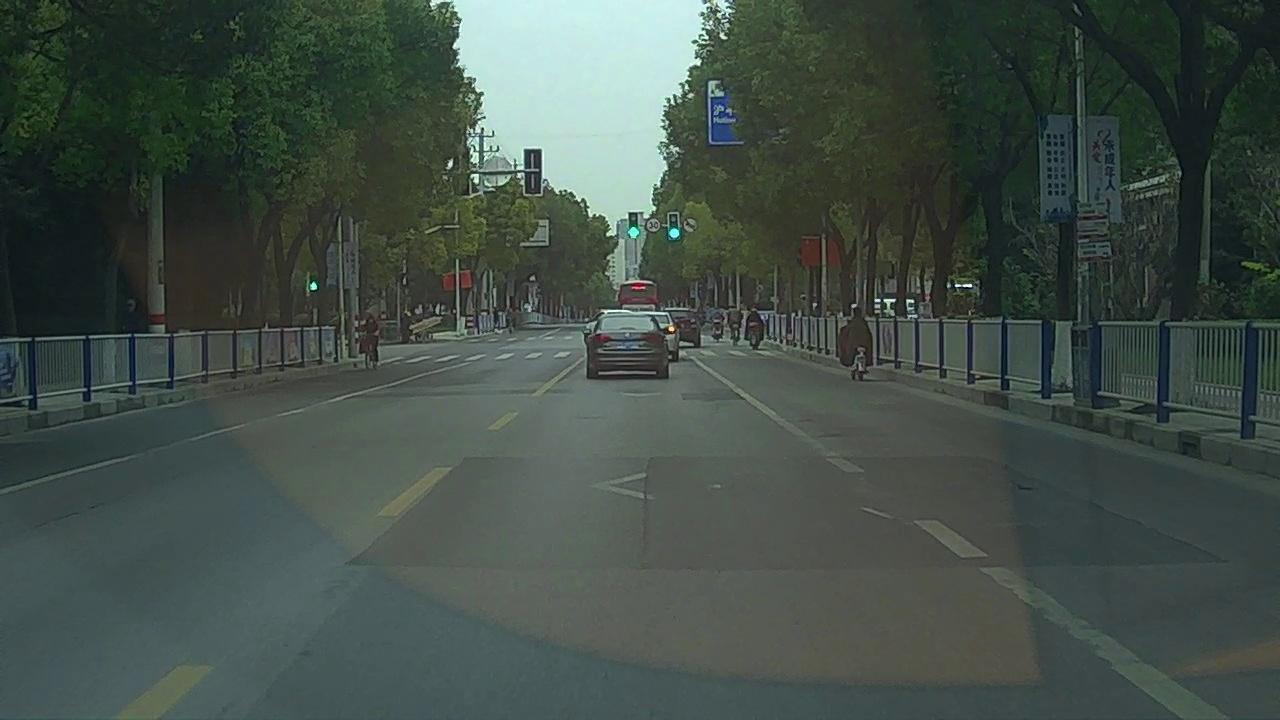traffic_light: (669, 215, 680, 239), (629, 212, 639, 238)
